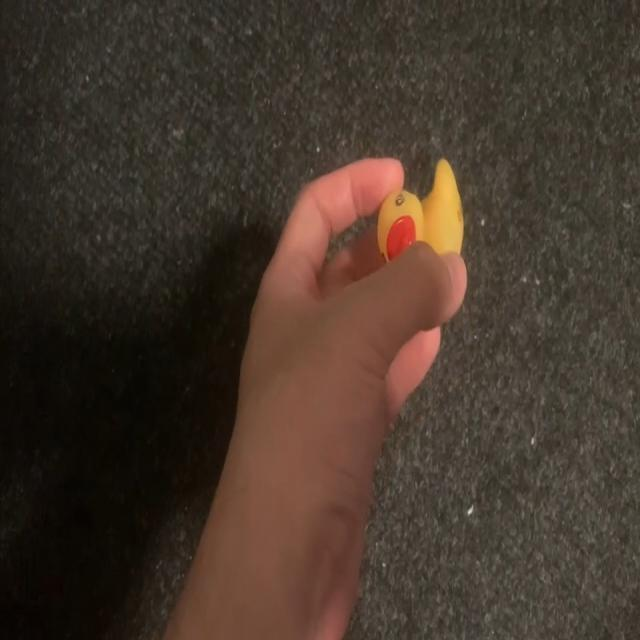rubber-duck: (376, 158, 462, 259)
